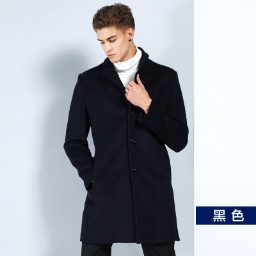face: (91, 3, 136, 65)
